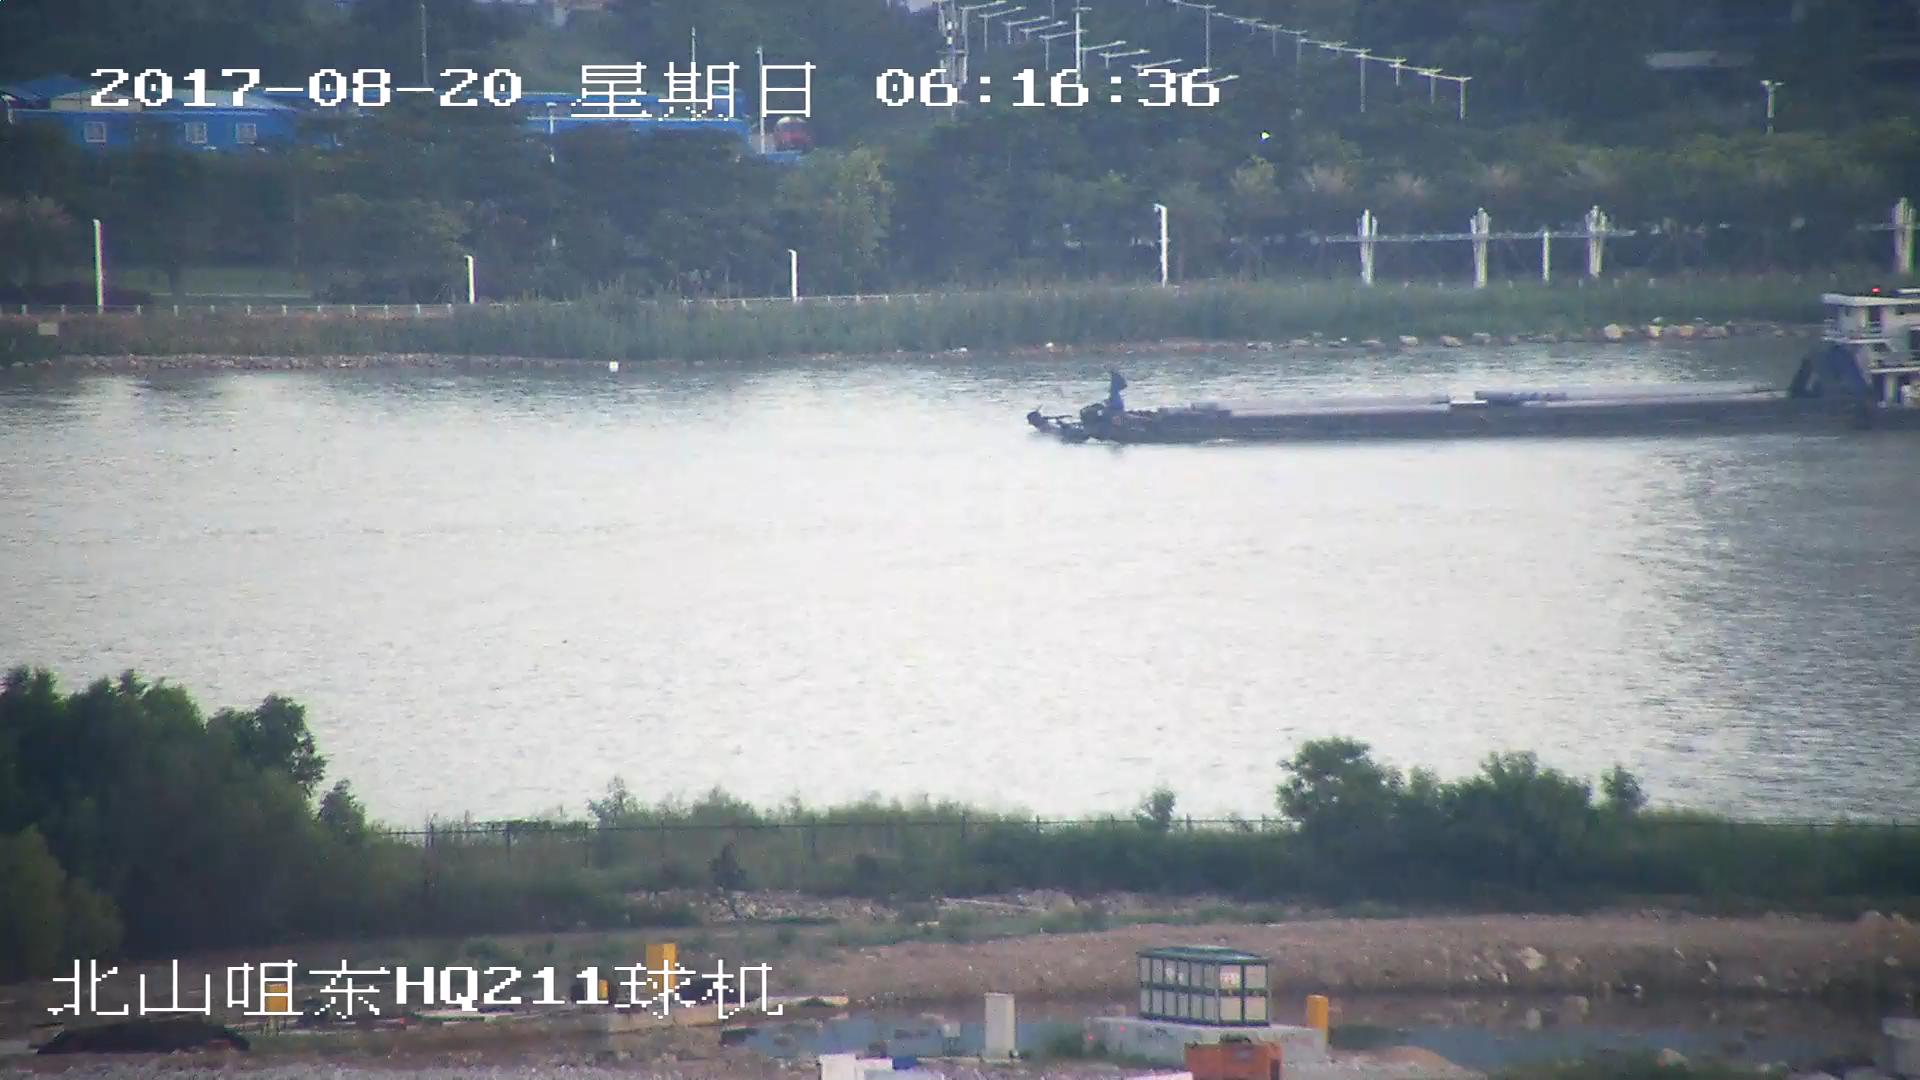bulk cargo carrier: (1024, 290, 1920, 440)
